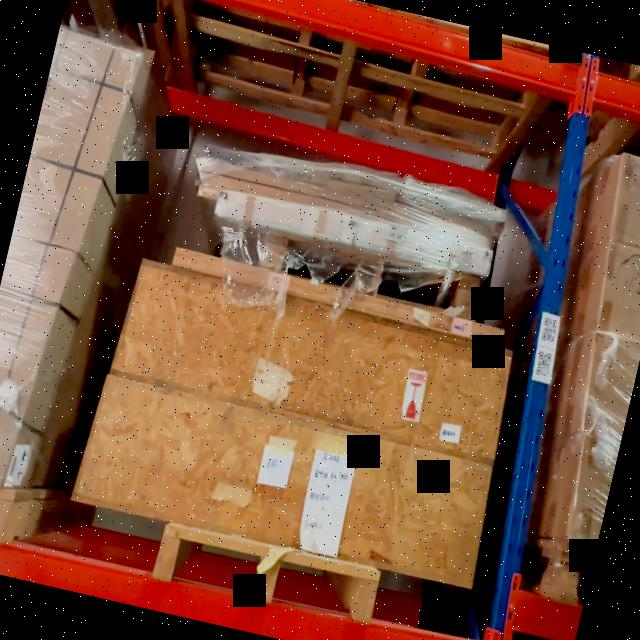box: (81, 382, 492, 580), (118, 262, 516, 456)
